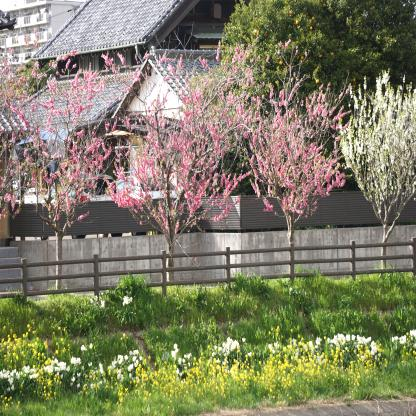Momo: (104, 35, 260, 240), (24, 27, 123, 235), (242, 40, 350, 224), (336, 65, 416, 228), (0, 28, 42, 218)
